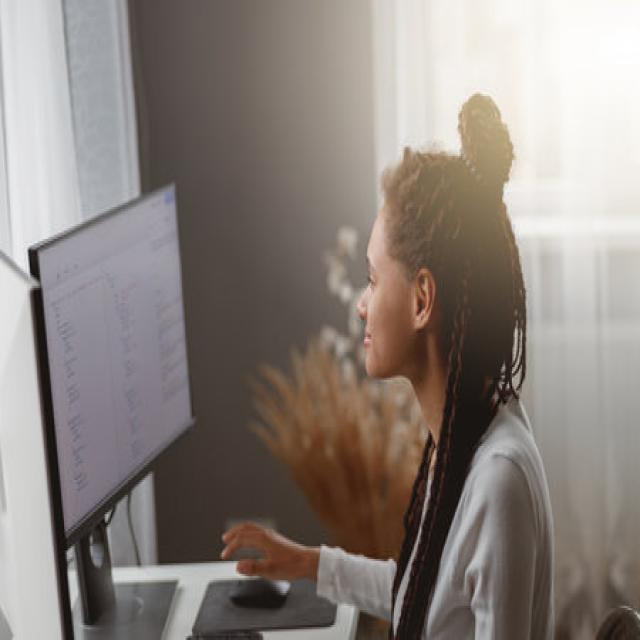desktop-person: (22, 74, 564, 640)
